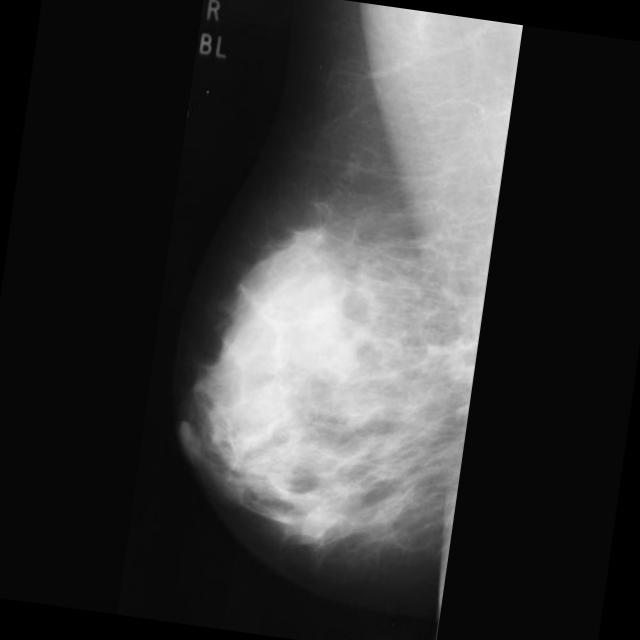CALC: (372, 371, 396, 395)
